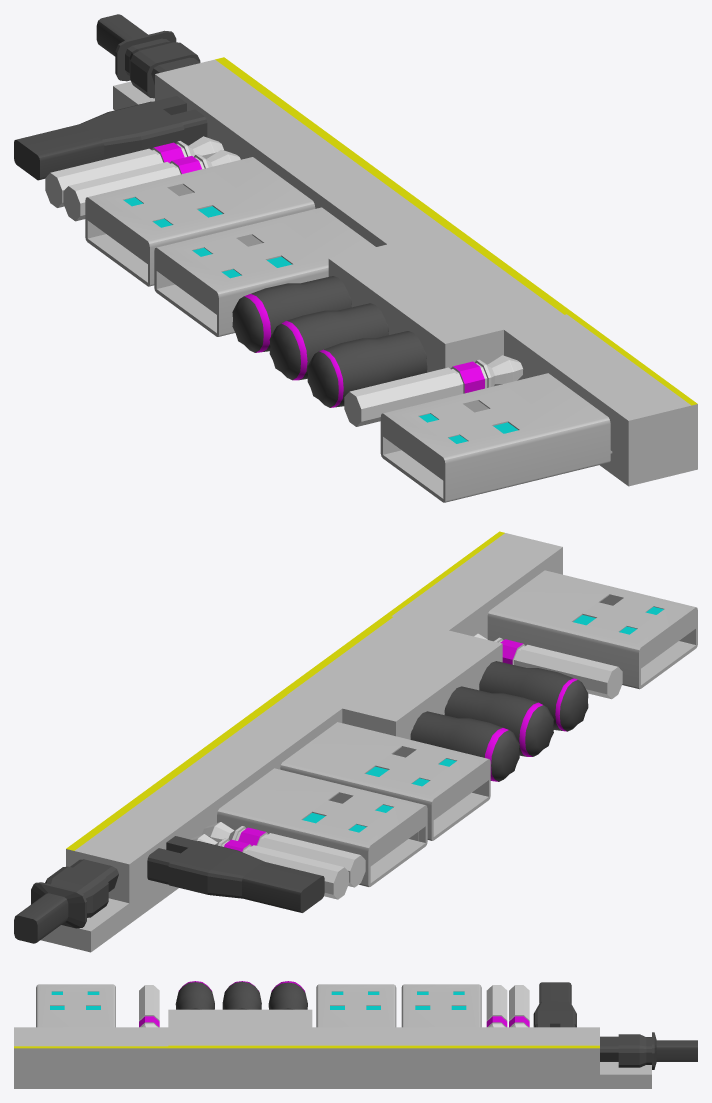
File: final platform.fbx
3 views of the same model, one above another, from view 1: azimuth 30°, elevation 25°; view 2: azimuth 150°, elevation 25°; view 3: azimuth 270°, elevation 25° (orthographic). The views are drawn at different scales.
Visible parts, largest first — view 1: final_platform; view 2: final_platform; view 3: final_platform.
Part boxes in pixels (box(x1,y1,x2,y2)): final_platform: box(14, 14, 697, 502); final_platform: box(14, 531, 697, 952); final_platform: box(14, 981, 697, 1088).
Size of the model in its own units: 5.56 by 1.51 by 22.61.
